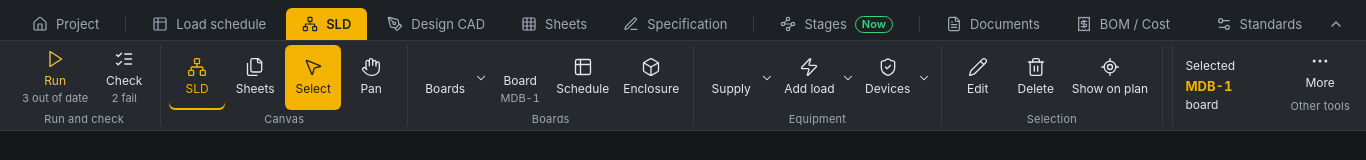
the SLD tab › shows what is out of date under Run and what fails under Check, which goes to the next circuit
Later steps or results of the test are not shown.
Check: the text with class "ribbon-sub" reads "3 out of date", box [22, 91, 88, 105]
Check: the text with class "ribbon-sub" reads "2 fail", box [111, 91, 137, 105]
Click the button "Check 2 fail".
click(124, 78)  # box [96, 45, 152, 110]
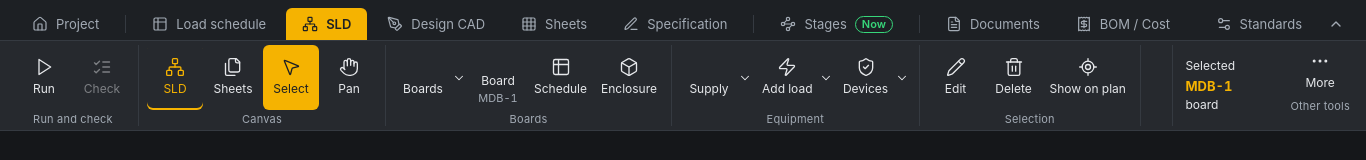
Check: the text "3 out of date" is gone
Check: the button "Check" is disabled, box [74, 45, 130, 110]
